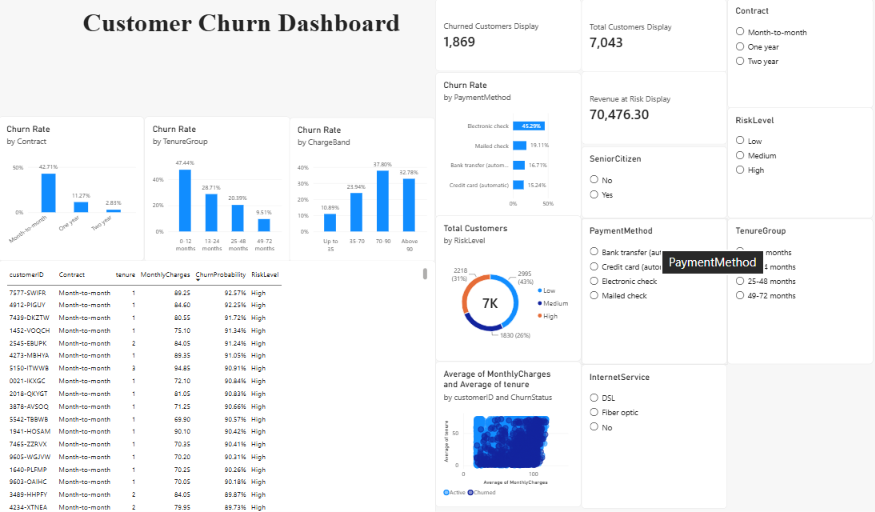

This screenshot's page, from the dashboard's own definition file:
{"tool":"powerbi","page":{"name":"Page 1","canvas":[1920,1080],"ordinal":0},"visuals":[{"type":"cardVisual","fields":{"Data":["Customers.Churned Customers Display"]},"box":[900,0,300,150],"z":0},{"type":"cardVisual","fields":{"Data":["Customers.Total Customers Display"]},"box":[1200,2,300,150],"z":1000},{"type":"cardVisual","fields":{"Data":["Customers.Revenue at Risk Display"]},"box":[1200,150,300,150],"z":2000},{"type":"clusteredColumnChart","fields":{"Category":["Customers.Contract"],"Y":["Customers.Churn Rate"]},"box":[0,242,300,297.5],"z":3000},{"type":"clusteredColumnChart","fields":{"Category":["Customers.TenureGroup"],"Y":["Customers.Churn Rate"]},"box":[300,242,300,300],"z":4000},{"type":"clusteredBarChart","fields":{"Category":["Customers.PaymentMethod"],"Y":["Customers.Churn Rate"]},"box":[900,152.5,300,300],"z":5000},{"type":"clusteredColumnChart","fields":{"Category":["Customers.ChargeBand"],"Y":["Customers.Churn Rate"]},"box":[600,244,300,298],"z":6000},{"type":"donutChart","fields":{"Category":["Customers.RiskLevel"],"Y":["Customers.Total Customers"]},"box":[900,447.5,300,300],"z":7000},{"type":"scatterChart","fields":{"Category":["Customers.customerID"],"Series":["Customers.ChurnStatus"],"X":["Customers.MonthlyCharges"],"Y":["Avg(Customers.tenure)"]},"box":[900,747.5,300,300],"z":8000},{"type":"listSlicer","fields":{"Values":["Customers.Contract"]},"box":[1500,0,300,226],"z":9000},{"type":"listSlicer","fields":{"Values":["Customers.InternetService"]},"box":[1200,752.5,300,296.7],"z":10000},{"type":"listSlicer","fields":{"Values":["Customers.TenureGroup"]},"box":[1500,452,300,300],"z":11000},{"type":"listSlicer","fields":{"Values":["Customers.PaymentMethod"]},"box":[1200,452.5,300,300],"z":12000},{"type":"listSlicer","fields":{"Values":["Customers.RiskLevel"]},"box":[1500,224,300,228],"z":13000},{"type":"listSlicer","fields":{"Values":["Customers.SeniorCitizen"]},"box":[1200,304,300,147.5],"z":14000},{"type":"tableEx","fields":{"Values":["Customers.customerID","Customers.Contract","Customers.tenure","Customers.MonthlyCharges","Customers.ChurnProbability","Customers.RiskLevel"]},"box":[0,540,900,540],"z":15000},{"type":"textbox","box":[100,0,700,114],"z":15001}]}

Visuals, with their boxes on the page's 1920x1080 design canvas (x1, y1, x2, y2). These are canvas units, not pixel positions in the 875x512 screenshot, which may show the page scaled, cropped or inside an application window:
cardVisual - Customers.Churned Customers Display: x1=900 y1=0 x2=1200 y2=150
cardVisual - Customers.Total Customers Display: x1=1200 y1=2 x2=1500 y2=152
cardVisual - Customers.Revenue at Risk Display: x1=1200 y1=150 x2=1500 y2=300
clusteredColumnChart - Customers.Contract x Customers.Churn Rate: x1=0 y1=242 x2=300 y2=540
clusteredColumnChart - Customers.TenureGroup x Customers.Churn Rate: x1=300 y1=242 x2=600 y2=542
clusteredBarChart - Customers.PaymentMethod x Customers.Churn Rate: x1=900 y1=152 x2=1200 y2=452
clusteredColumnChart - Customers.ChargeBand x Customers.Churn Rate: x1=600 y1=244 x2=900 y2=542
donutChart - Customers.RiskLevel x Customers.Total Customers: x1=900 y1=448 x2=1200 y2=748
scatterChart - Customers.customerID x Customers.ChurnStatus: x1=900 y1=748 x2=1200 y2=1048
listSlicer - Customers.Contract: x1=1500 y1=0 x2=1800 y2=226
listSlicer - Customers.InternetService: x1=1200 y1=752 x2=1500 y2=1049
listSlicer - Customers.TenureGroup: x1=1500 y1=452 x2=1800 y2=752
listSlicer - Customers.PaymentMethod: x1=1200 y1=452 x2=1500 y2=752
listSlicer - Customers.RiskLevel: x1=1500 y1=224 x2=1800 y2=452
listSlicer - Customers.SeniorCitizen: x1=1200 y1=304 x2=1500 y2=452
tableEx - Customers.customerID x Customers.Contract: x1=0 y1=540 x2=900 y2=1080
textbox: x1=100 y1=0 x2=800 y2=114
